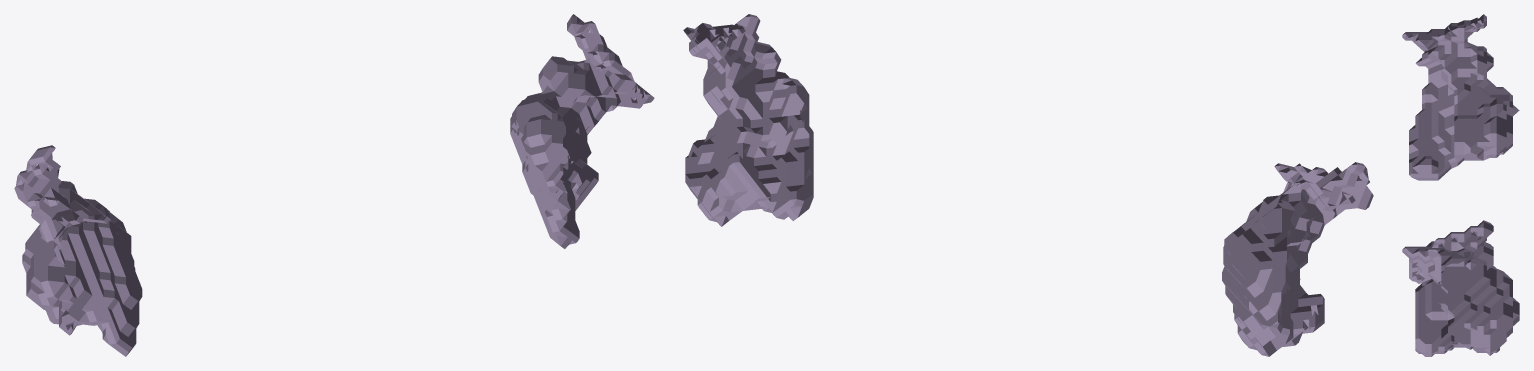
The model's file is region_0027_CPN__central_pretectal_nucleus_.glb.
3 views of the same model, side by side, from view 1: azimuth 30°, elevation 25°; view 2: azimuth 150°, elevation 25°; view 3: azimuth 270°, elevation 25° (orthographic). The views are drawn at different scales.
Visible parts, largest first — view 1: world; view 2: world; view 3: world.
Part boxes in pixels (x1,y1,x2,y2): world: [14, 14, 654, 356]; world: [683, 14, 1373, 356]; world: [1402, 14, 1519, 356].
Size of the model in its own units: 0.68 by 0.208 by 0.144.
